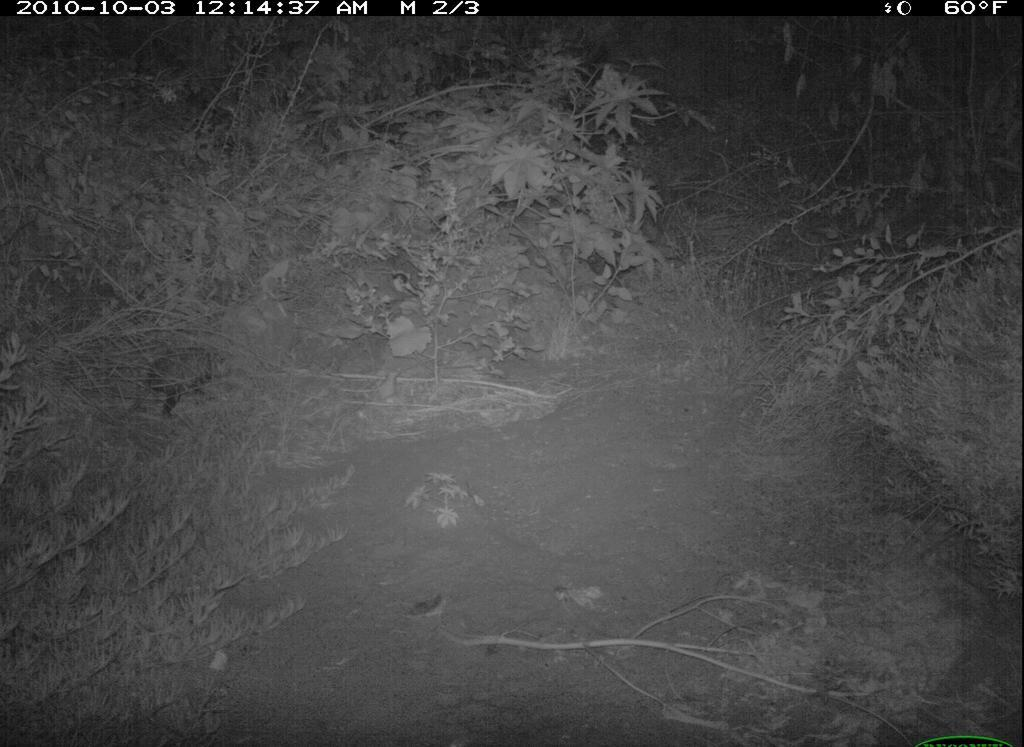opossum: (116, 343, 233, 425)
